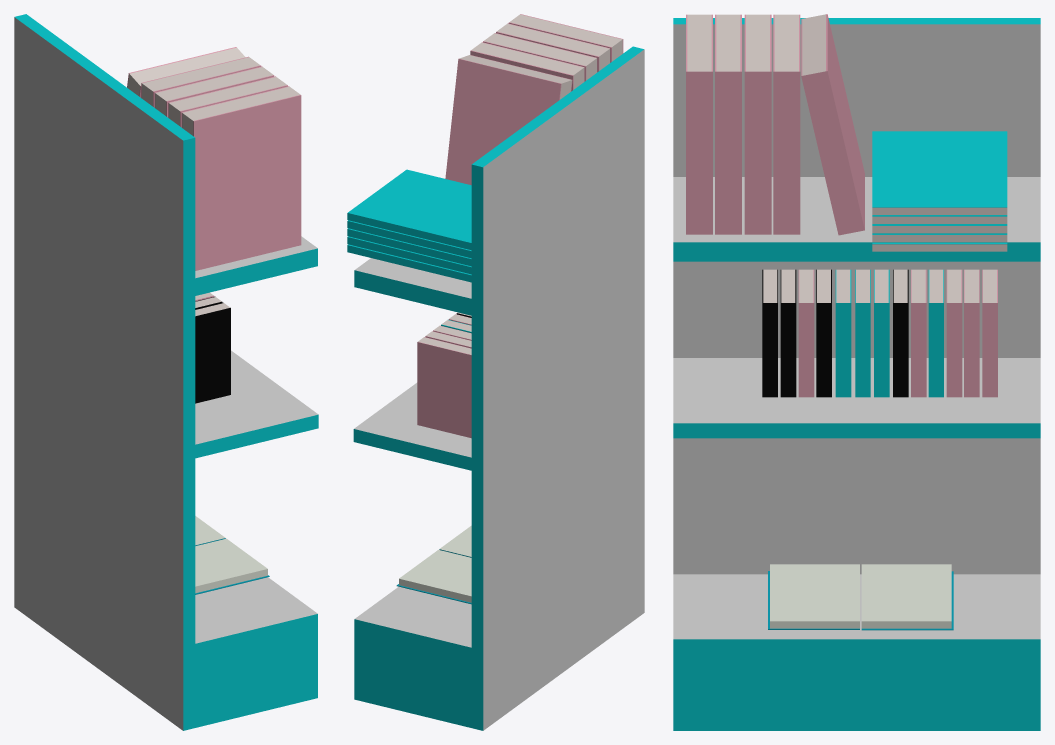
Rendered from Shelf.fbx.
3 views of the same model, side by side, from view 1: azimuth 30°, elevation 25°; view 2: azimuth 150°, elevation 25°; view 3: azimuth 270°, elevation 25° (orthographic). The views are drawn at different scales.
Visible parts, largest first — view 1: Cube, Cube.003, Cube.025, Cube.001, Cube.005, Cube.004, Cube.006, Cube.013, Cube.002; view 2: Cube, Cube.013, Cube.012, Cube.022, Cube.002, Cube.006, Cube.004, Cube.003, Cube.005, Cube.008, Cube.009, Cube.010 (+2 smaller); view 3: Cube, Cube.012, Cube.013, Cube.002, Cube.005, Cube.006, Cube.001, Cube.003, Cube.004, Cube.007, Cube.019, Cube.023 (+14 smaller).
Boxes of the visible parts, box(x1,y1,x2,y2) form: Cube: box(14, 14, 318, 730); Cube.003: box(181, 86, 301, 270); Cube.025: box(195, 302, 230, 403); Cube.001: box(195, 538, 269, 594); Cube.005: box(154, 66, 274, 117); Cube.004: box(168, 76, 287, 127); Cube.006: box(141, 56, 261, 107); Cube.013: box(127, 47, 245, 97); Cube.002: box(195, 516, 225, 545); Cube: box(353, 46, 644, 730); Cube.013: box(445, 55, 572, 185); Cube.012: box(347, 169, 471, 250); Cube.022: box(417, 337, 471, 438); Cube.002: box(396, 550, 471, 604); Cube.006: box(470, 42, 584, 91); Cube.004: box(496, 23, 610, 71); Cube.003: box(508, 14, 623, 62); Cube.005: box(483, 33, 597, 81); Cube.008: box(347, 244, 471, 282); Cube.009: box(347, 236, 471, 274); Cube.010: box(347, 228, 471, 266); Cube: box(673, 18, 1040, 730); Cube.012: box(872, 131, 1007, 215); Cube.013: box(801, 14, 864, 235); Cube.002: box(861, 564, 953, 630); Cube.005: box(744, 14, 771, 234); Cube.006: box(773, 14, 800, 234); Cube.001: box(768, 564, 859, 629); Cube.003: box(686, 14, 712, 234); Cube.004: box(715, 14, 741, 234); Cube.007: box(946, 269, 962, 397); Cube.019: box(835, 269, 851, 397); Cube.023: box(798, 269, 814, 397).
Bounding box in the file's own units: 2.2 × 8.03 × 4.08.
